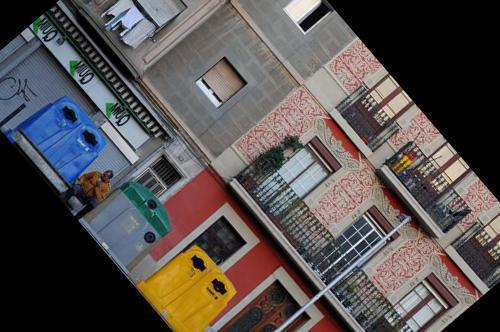Bote de Basura: (83, 176, 181, 274), (134, 235, 219, 315), (10, 89, 90, 165), (34, 117, 111, 190), (162, 267, 246, 332)
